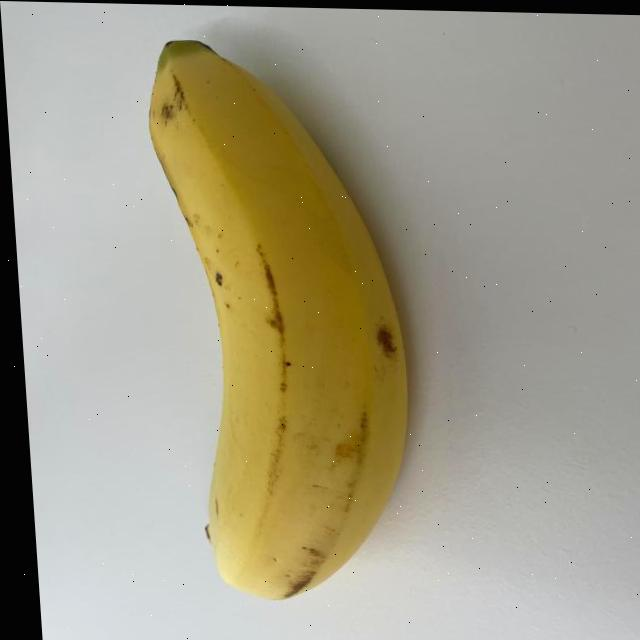banana: (133, 34, 427, 605)
